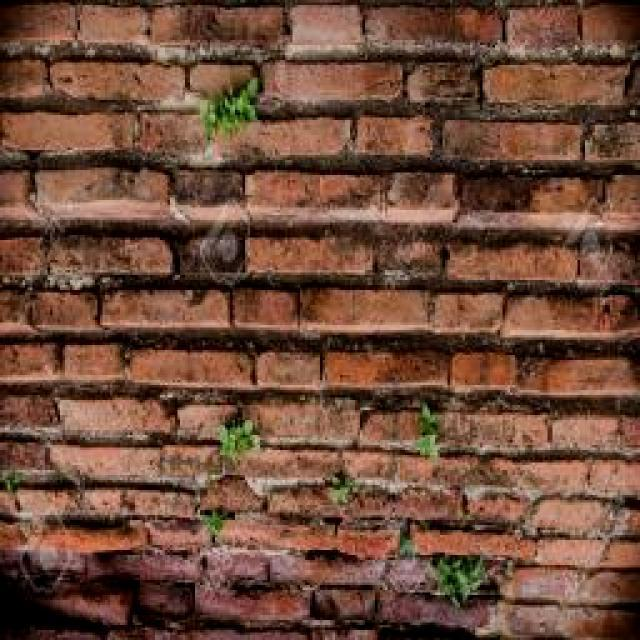crack: (1, 1, 638, 637), (13, 92, 636, 129), (8, 269, 637, 303), (10, 150, 639, 184), (32, 166, 173, 221), (484, 63, 628, 107), (44, 444, 194, 485), (248, 171, 391, 214), (267, 61, 403, 106), (446, 120, 588, 163), (37, 233, 175, 277), (246, 233, 382, 277), (101, 287, 240, 330), (3, 110, 134, 155), (448, 242, 583, 285), (123, 345, 258, 387), (2, 39, 192, 68), (56, 397, 179, 441), (49, 59, 171, 102), (15, 217, 200, 245), (239, 117, 355, 160), (14, 147, 179, 175), (131, 38, 282, 66), (228, 286, 304, 329), (131, 549, 213, 586), (77, 5, 151, 45), (2, 2, 75, 41), (201, 549, 280, 584), (0, 337, 60, 380)
dampness: (3, 170, 631, 240), (7, 1, 640, 62), (0, 544, 168, 636), (186, 542, 335, 632)
vegetation: (9, 417, 103, 594), (16, 158, 109, 327), (171, 171, 248, 277), (200, 415, 258, 537), (367, 226, 449, 284), (2, 461, 92, 510), (23, 181, 72, 269), (198, 75, 262, 142), (578, 223, 634, 287), (186, 61, 262, 105), (557, 198, 605, 266), (217, 418, 260, 468), (0, 470, 32, 534), (172, 5, 223, 41), (199, 507, 229, 544), (199, 96, 216, 146), (1, 470, 24, 493)
